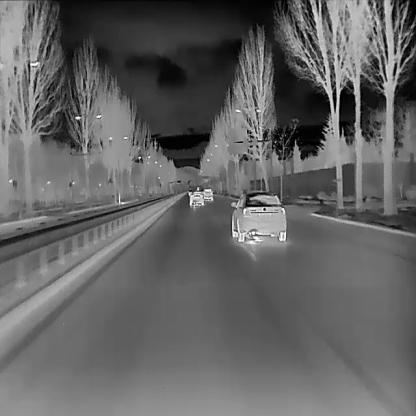car: (229, 187, 287, 242), (188, 190, 204, 205), (202, 187, 213, 199), (187, 188, 193, 196), (195, 185, 199, 190)
